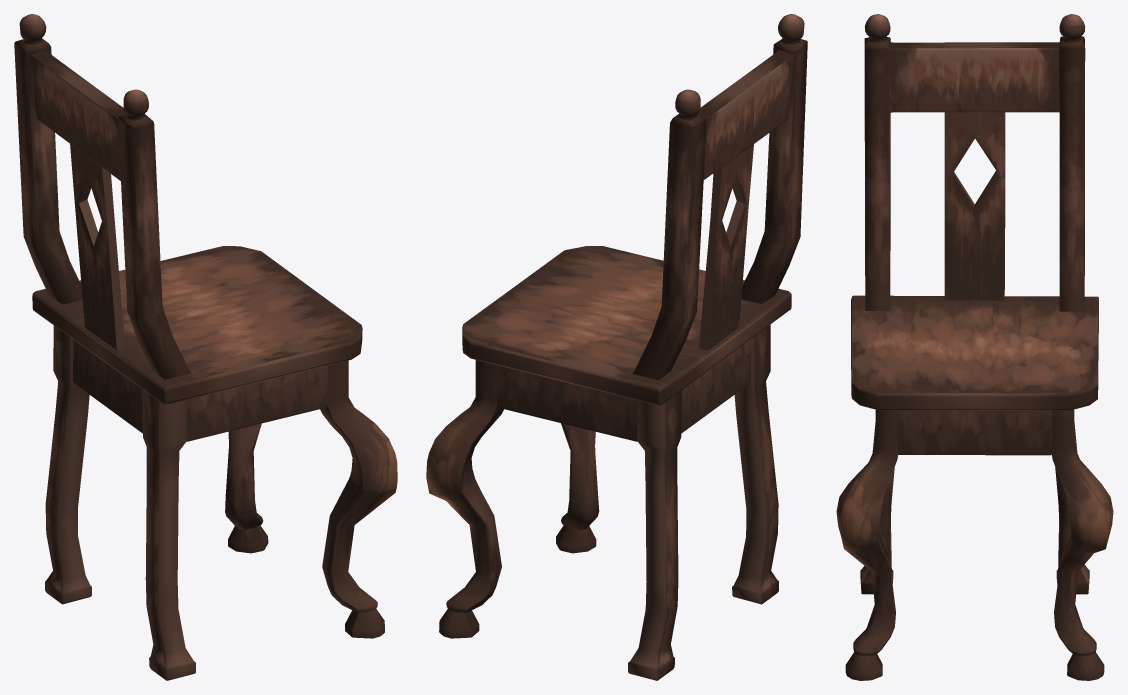
Rendered from Chair_textured.fbx.
3 renders of one model, left to right at view 1: azimuth 30°, elevation 25°; view 2: azimuth 150°, elevation 25°; view 3: azimuth 270°, elevation 25°, orthographic. The views are drawn at different scales.
Visible parts, largest first — view 1: Chair_low4; view 2: Chair_low4; view 3: Chair_low4.
Boxes of the visible parts, box(x1,y1,x2,y2) form: Chair_low4: box(14, 14, 397, 680); Chair_low4: box(426, 14, 807, 680); Chair_low4: box(836, 14, 1113, 680).
Size of the model in its own units: 44.1 by 94.64 by 42.75.
Materials: 1 (1 with a texture image).
